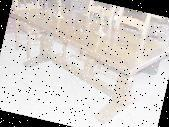Mesa: (0, 0, 168, 126)
Silla: (59, 0, 118, 71), (99, 5, 151, 83), (1, 0, 65, 62)
